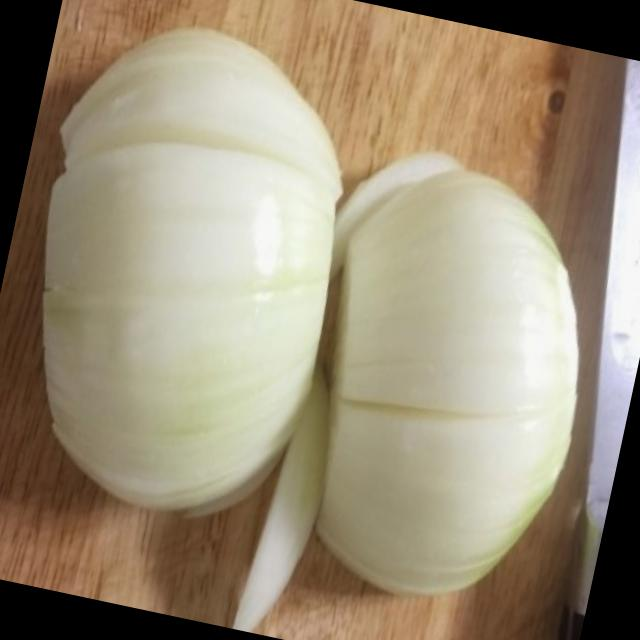onion: (0, 4, 385, 618), (243, 108, 634, 640)
